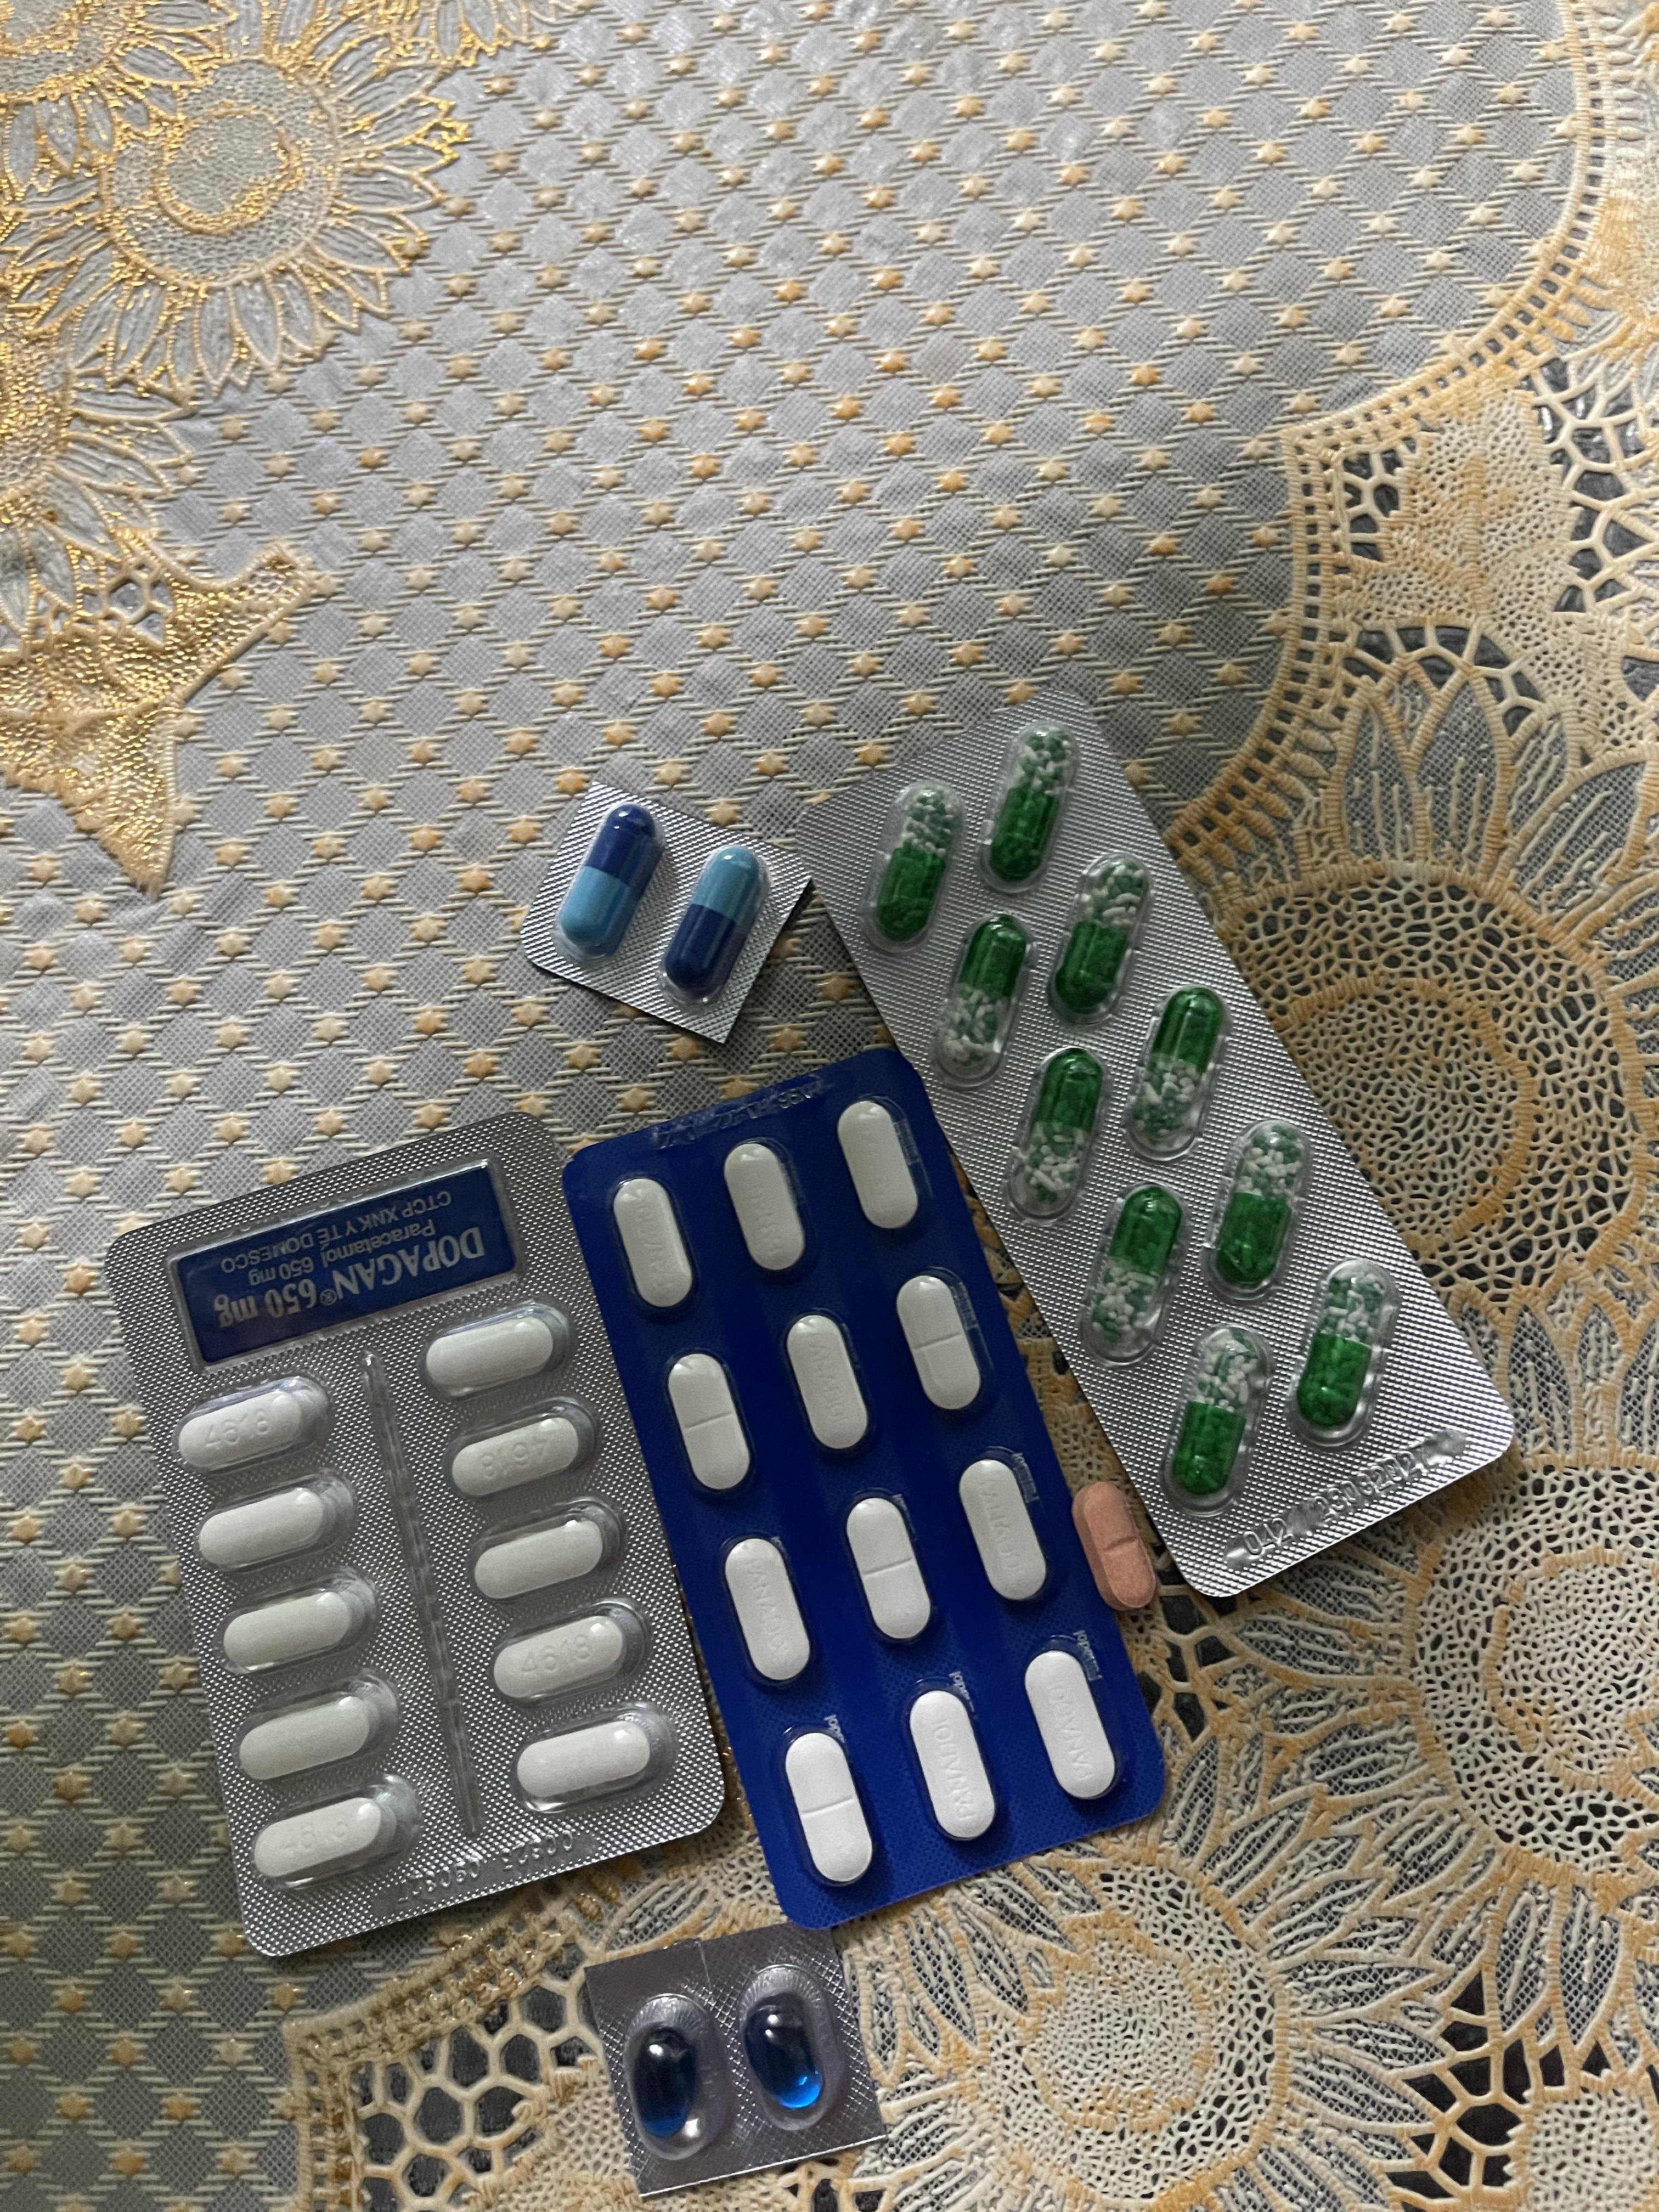Lincomyxin_500mg: (744, 1994, 824, 2111), (631, 2026, 701, 2141)
Loratadine_10mg: (1073, 1480, 1155, 1611)
Paracetamol_350mg: (782, 1730, 873, 1888), (1025, 1648, 1115, 1803), (908, 1688, 997, 1841), (960, 1458, 1051, 1602), (845, 1494, 932, 1642), (723, 1538, 812, 1681), (666, 1353, 751, 1491), (788, 1315, 871, 1451), (897, 1275, 981, 1409), (723, 1141, 809, 1270), (610, 1176, 694, 1306), (838, 1103, 920, 1228)
Paracetamol_500mg: (234, 1684, 392, 1784), (253, 1789, 406, 1886), (174, 1378, 329, 1474), (192, 1480, 343, 1576), (220, 1581, 369, 1677), (422, 1305, 568, 1400), (493, 1609, 634, 1705), (514, 1714, 659, 1804), (469, 1514, 608, 1606), (450, 1413, 584, 1500)
Paracetamol_650mg: (1286, 1258, 1394, 1439), (1161, 1327, 1269, 1507), (1082, 1184, 1185, 1350), (1206, 1120, 1310, 1282), (931, 913, 1033, 1071), (999, 1047, 1105, 1198), (1122, 991, 1222, 1139), (1056, 862, 1148, 1012), (988, 726, 1077, 880), (873, 787, 960, 935)
pill: (664, 843, 770, 998), (565, 799, 669, 953)
